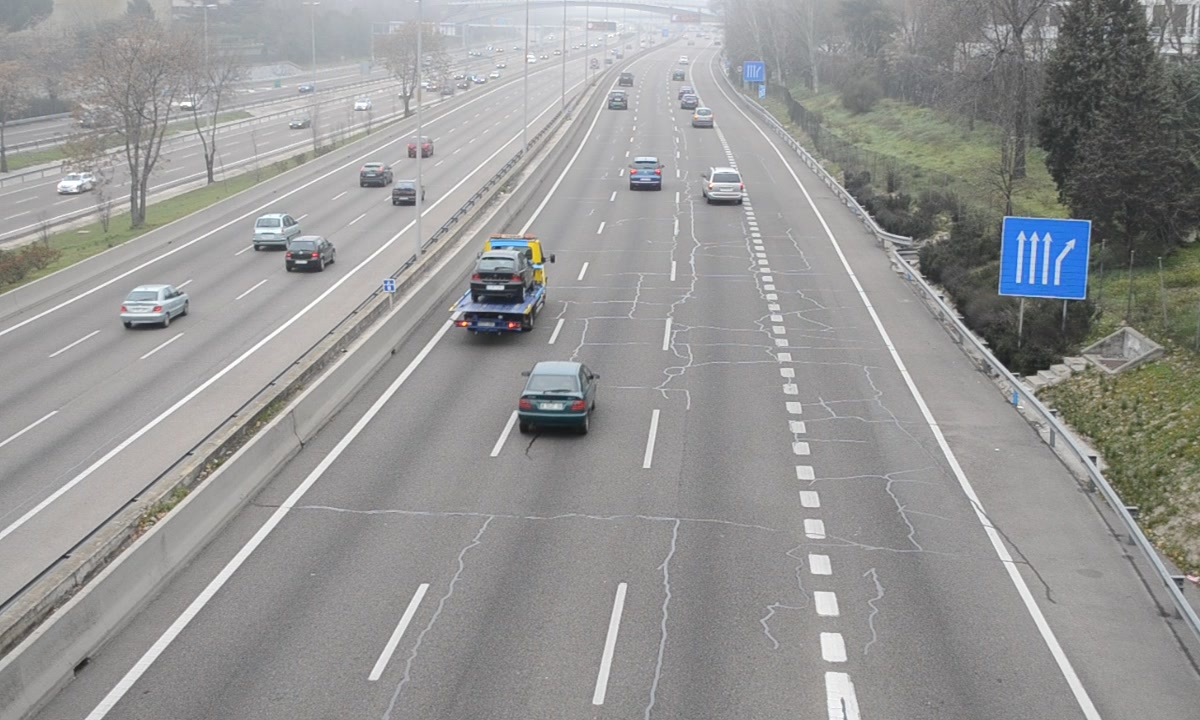car: (518, 362, 596, 424), (702, 167, 743, 202), (629, 157, 663, 190), (692, 105, 717, 131), (607, 90, 631, 112)
small-truck: (450, 235, 548, 334)
